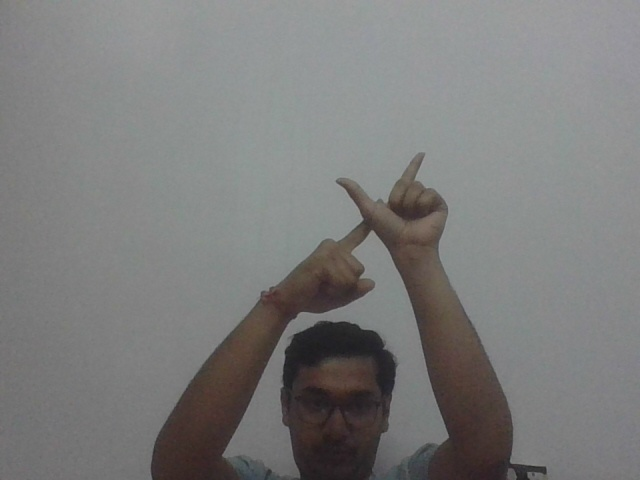Y: (309, 149, 457, 311)
